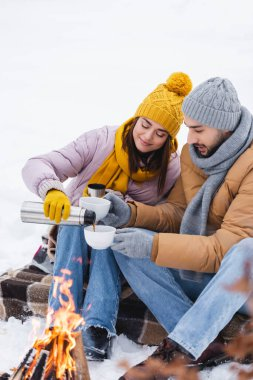fire: (45, 271, 82, 370)
